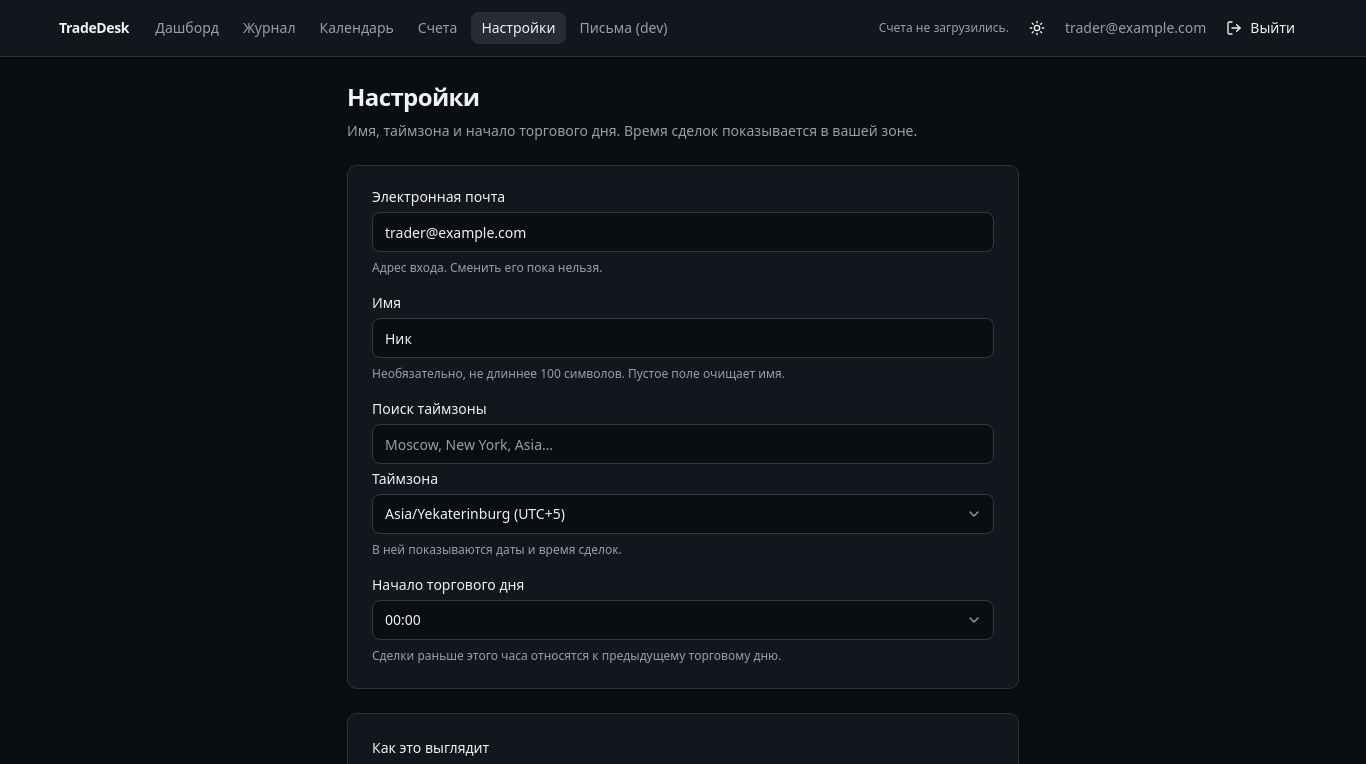
Scenario: /settings › пустое имя очищает его: в теле null, а не пустая строка
Clear the field labelled "Имя" at (683, 338), box [372,318,994,358]
(page scrolled)
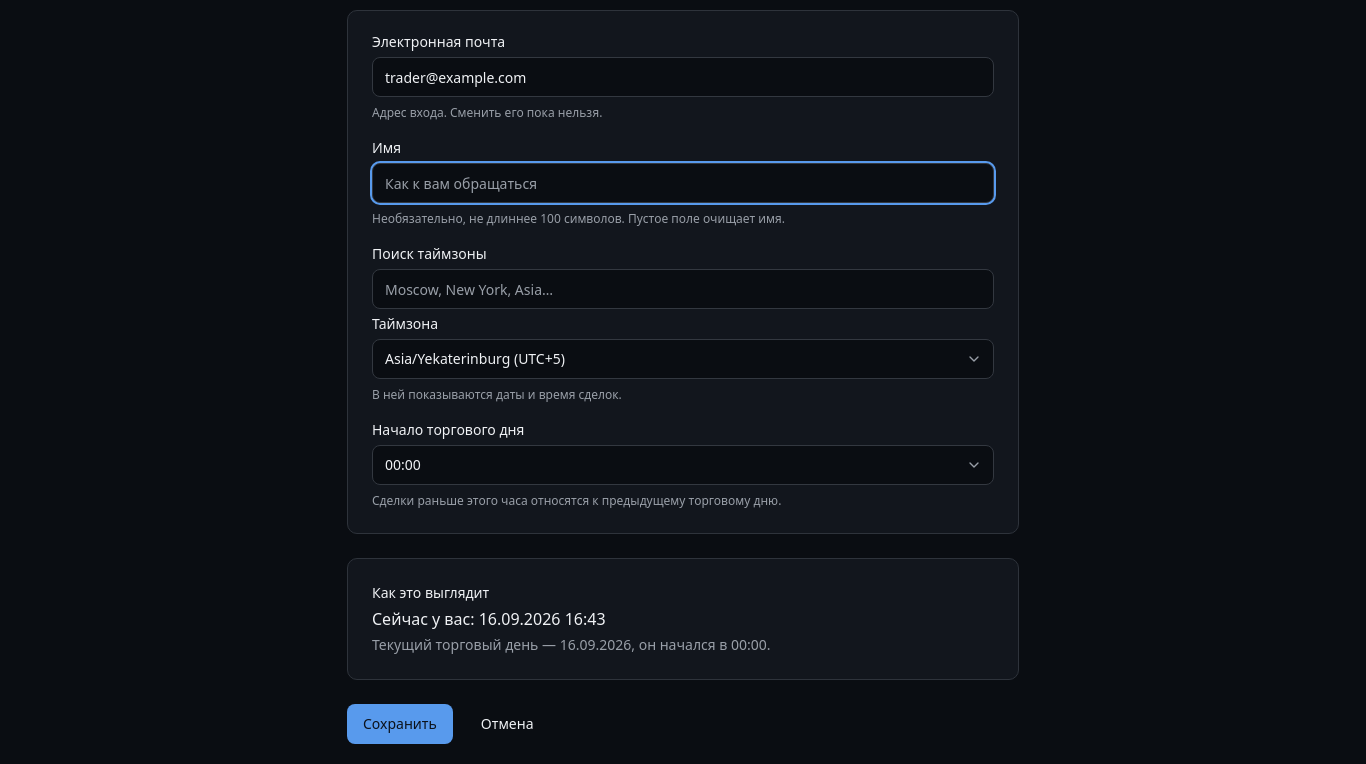
Click the button "Сохранить" at (400, 724), box [347,704,453,744]
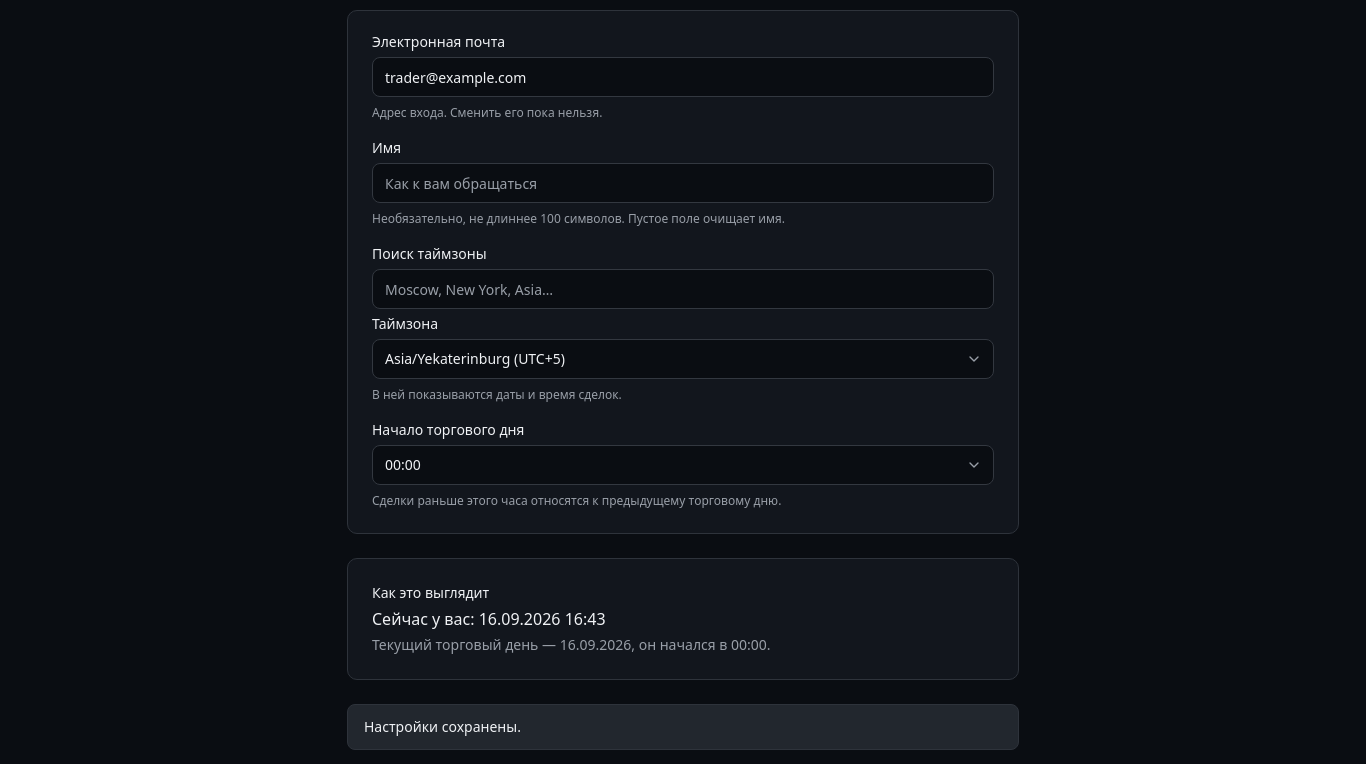
Check: the text "Настройки сохранены." is shown, box [347,704,1019,750]
